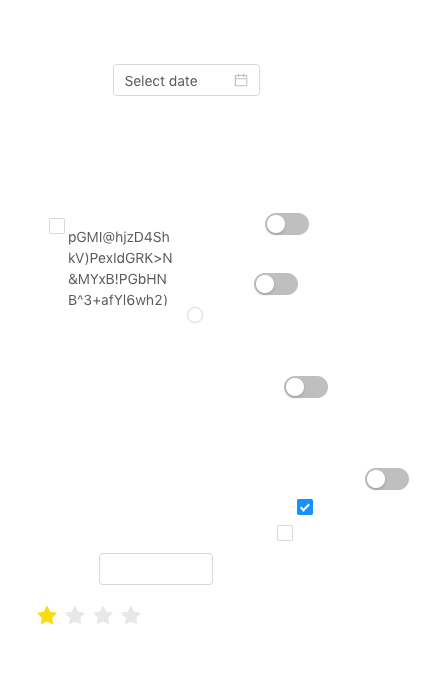Checkbox: (277, 522, 293, 543), (297, 496, 313, 517), (49, 215, 65, 236)
DatePicker: (113, 64, 260, 96)
Input: (99, 553, 213, 585)
Radio: (187, 304, 203, 324)
Rate: (37, 599, 157, 631)
Switch: (284, 375, 328, 399), (365, 467, 409, 491), (254, 272, 298, 296), (265, 212, 309, 236)
Text: (68, 226, 174, 306)
